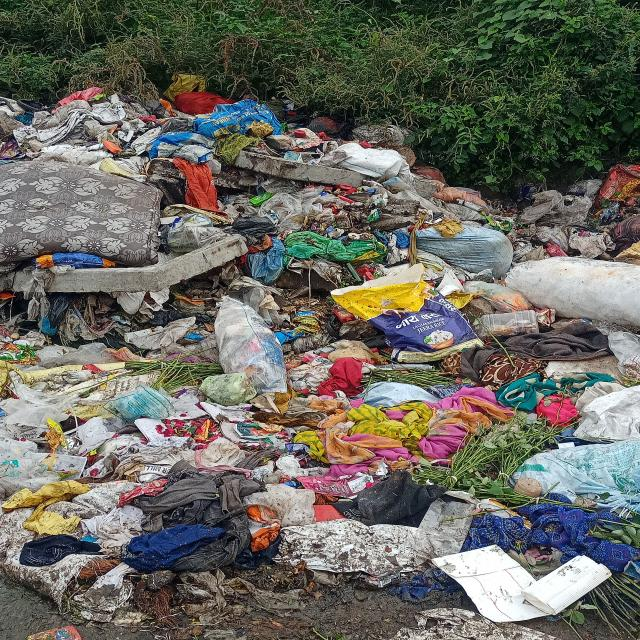garbage: (9, 98, 426, 610), (443, 180, 640, 634)
